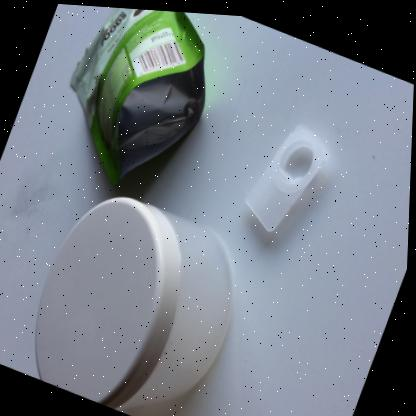Plastic: (37, 195, 235, 408), (70, 6, 205, 183), (246, 118, 330, 227)
